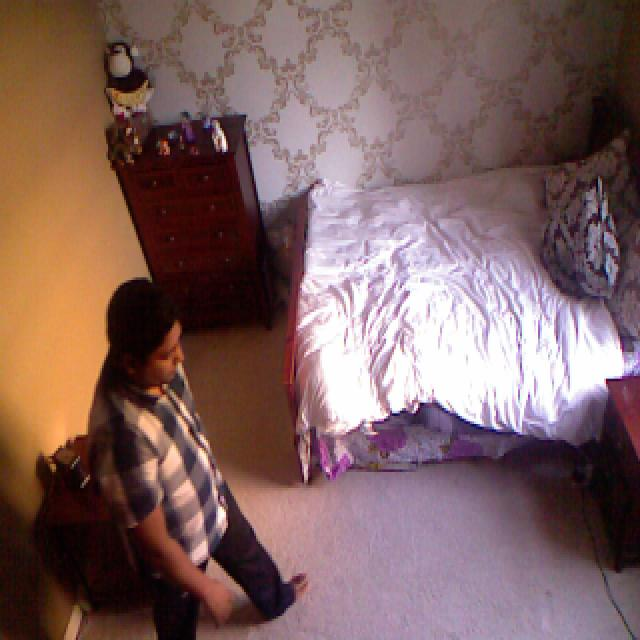standing: (81, 275, 309, 640)
